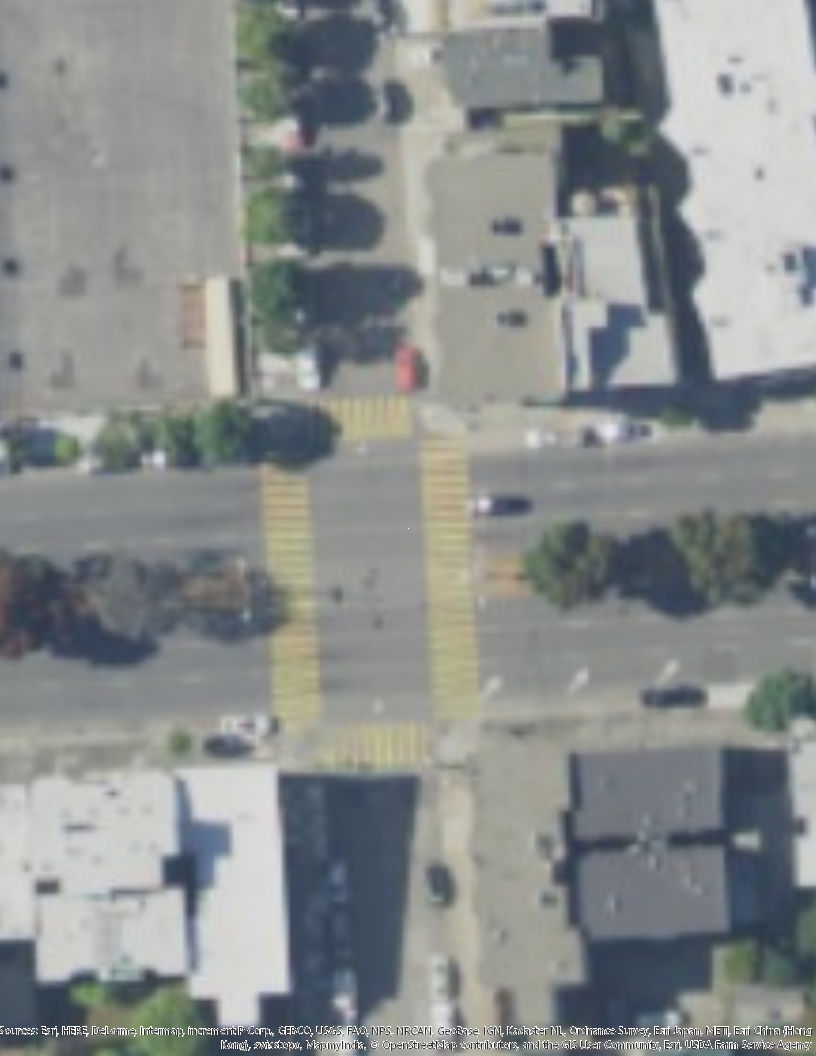zebracross: (413, 436, 479, 721), (256, 451, 324, 727), (296, 396, 416, 445), (323, 721, 428, 772)
